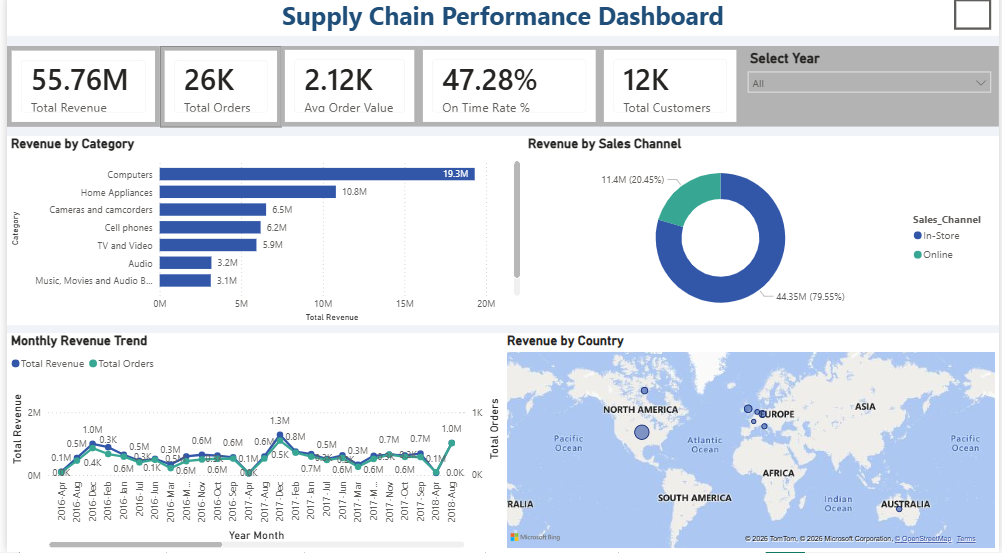

Layout of this report page (visuals, bound fields, positions):
{"tool":"powerbi","page":{"name":"Executive Summary","canvas":[1280,720],"ordinal":0},"visuals":[{"type":"textbox","box":[0,0,1279.8,53.9],"z":0},{"type":"cardVisual","fields":{"Data":["_Measures.Total Revenue"]},"box":[0,67.1,197.1,104.3],"z":1000},{"type":"cardVisual","fields":{"Data":["_Measures.Total Orders"]},"box":[197,66.6,157.3,104.9],"z":2000},{"type":"cardVisual","fields":{"Data":["_Measures.Avg Order Value"]},"box":[353.8,67.5,177.5,103.8],"z":3000},{"type":"cardVisual","fields":{"Data":["_Measures.On Time Delivery Rate %"]},"box":[531.2,67.5,233.8,103.8],"z":4000},{"type":"cardVisual","fields":{"Data":["_Measures.Total Customers"]},"box":[765,67.5,181.2,103.8],"z":5000},{"type":"clusteredBarChart","title":"Revenue by Category","fields":{"Category":["Products.Category"],"Y":["_Measures.Total Revenue"]},"box":[0,171.5,674.6,266.5],"z":6000},{"type":"lineChart","title":"Monthly Revenue Trend","fields":{"Category":["Date Table.Year Month"],"Y":["_Measures.Total Revenue"],"Y2":["_Measures.Total Orders"]},"box":[0,437.5,640,282.5],"z":7000},{"type":"donutChart","title":"Revenue by Sales Channel","fields":{"Category":["Sales.Sales_Channel"],"Y":["_Measures.Total Revenue"]},"box":[675,171.2,605,266.2],"z":8000},{"type":"map","title":"Revenue by Country","fields":{"Size":["_Measures.Total Revenue"],"Category":["Customers.Country"]},"box":[640,437.5,640,282.5],"z":9000},{"type":"slicer","fields":{"Values":["Date Table.Year"]},"box":[946.2,67.5,333.8,103.8],"z":10000},{"type":"actionButton","box":[1221.7,7.1,48.2,39.7],"z":10001}]}

Visuals, with their boxes in screenshot pixels (x1, y1, x2, y2), scaled from the page's 1280x720 canvas onto the 1002x553 screenshot:
textbox: 0,0,1001,41
cardVisual - _Measures.Total Revenue: 0,52,154,132
cardVisual - _Measures.Total Orders: 154,51,277,132
cardVisual - _Measures.Avg Order Value: 277,52,416,132
cardVisual - _Measures.On Time Delivery Rate %: 416,52,599,132
cardVisual - _Measures.Total Customers: 599,52,741,132
"Revenue by Category" clusteredBarChart: 0,132,528,336
"Monthly Revenue Trend" lineChart: 0,336,501,552
"Revenue by Sales Channel" donutChart: 528,131,1001,336
"Revenue by Country" map: 501,336,1001,552
slicer - Date Table.Year: 741,52,1001,132
actionButton: 956,5,994,36
